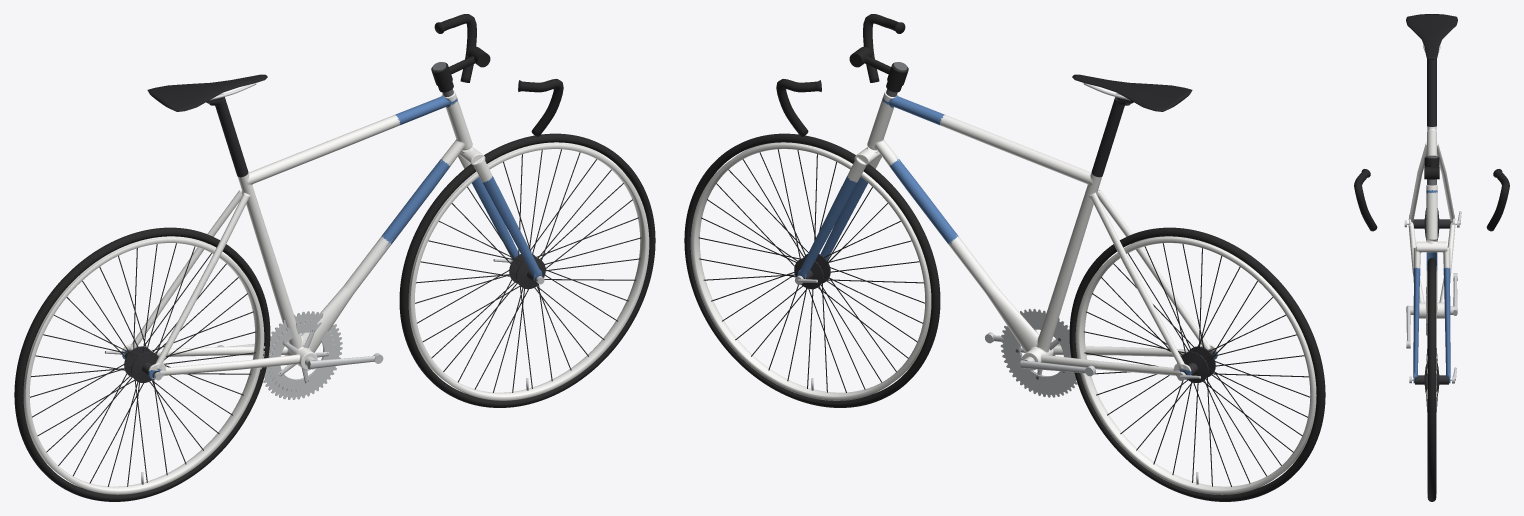
The model's file is bike_web_raw.glb.
3 views of the same model, side by side, from view 1: azimuth 30°, elevation 25°; view 2: azimuth 150°, elevation 25°; view 3: azimuth 270°, elevation 25° (orthographic). The views are drawn at different scales.
Parts seen in each view (by area): view 1: frame, tyre_rear, tyre_front, rim_front, rim_rear, spokes_rear, spokes_front, chainrings, fork, saddle, dropbar, crank_arms (+4 smaller); view 2: frame, tyre_front, tyre_rear, rim_front, rim_rear, spokes_front, spokes_rear, fork, chainrings, saddle, dropbar, stem (+4 smaller); view 3: frame, tyre_front, fork, saddle, dropbar, seatpost, crank_arms, rim_front, stem, hub_rear, hub_front.
Boxes of the visible parts, box(x1,y1,x2,y2) form: frame: box(122, 90, 472, 379); tyre_rear: box(14, 227, 270, 501); tyre_front: box(399, 133, 655, 407); rim_front: box(408, 142, 649, 400); rim_rear: box(23, 236, 264, 494); spokes_rear: box(30, 243, 256, 486); spokes_front: box(415, 149, 641, 392); chainrings: box(260, 311, 342, 399); fork: box(458, 147, 542, 281); saddle: box(147, 74, 267, 111); dropbar: box(434, 14, 563, 136); crank_arms: box(217, 328, 383, 383); frame: box(867, 90, 1217, 379); tyre_front: box(684, 133, 940, 407); tyre_rear: box(1069, 227, 1325, 501); rim_front: box(690, 142, 931, 400); rim_rear: box(1075, 236, 1316, 494); spokes_front: box(698, 149, 924, 392); spokes_rear: box(1083, 243, 1309, 486); fork: box(797, 147, 881, 278); chainrings: box(1000, 308, 1077, 397); saddle: box(1072, 74, 1192, 111); dropbar: box(776, 14, 905, 136); stem: box(849, 46, 908, 96); frame: box(1408, 126, 1455, 318); tyre_front: box(1427, 258, 1436, 501); fork: box(1413, 241, 1450, 383); saddle: box(1406, 14, 1457, 59); dropbar: box(1354, 169, 1509, 231); seatpost: box(1427, 58, 1436, 126); crank_arms: box(1406, 273, 1457, 348); rim_front: box(1427, 266, 1436, 493); stem: box(1424, 155, 1439, 185); hub_rear: box(1412, 210, 1451, 237); hub_front: box(1413, 366, 1450, 393).
Bounding box in the file's own units: 1.68 × 0.9885 × 0.4264.
